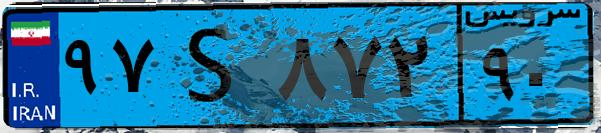0: (525, 38, 570, 115)
2: (385, 28, 445, 110)
7: (330, 28, 385, 110), (110, 28, 158, 98)
8: (270, 28, 330, 110)
9: (57, 26, 110, 100), (475, 38, 525, 113)
S: (158, 12, 270, 120)
